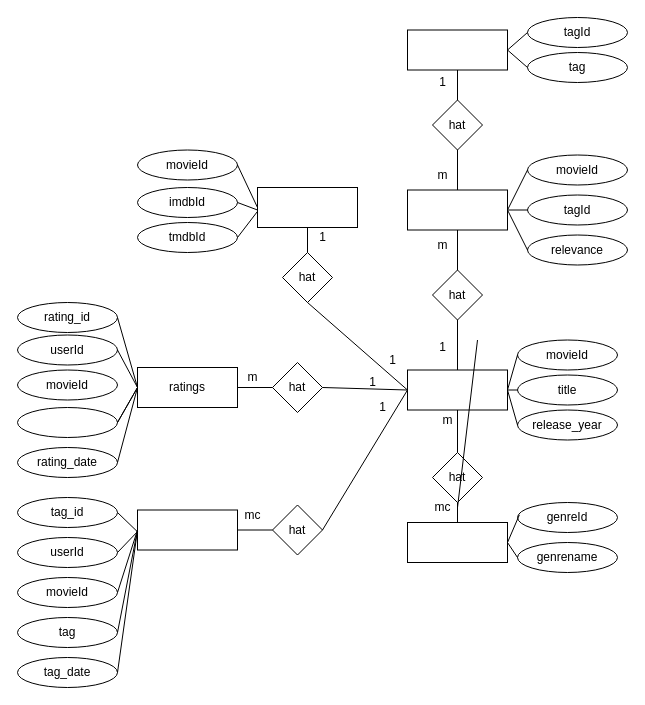
Image size: 645x705. Some labels were removed from this diagram. The shapes that lost their labels are listed below. From the top down, each one's centre as x and y in pixels, then its label:
the point at 457,49: genometags ()
the point at 307,207: links
the point at 457,209: genomescores ()
the point at 457,389: movies
the point at 67,422: rating
the point at 187,529: tags
the point at 457,542: genres
